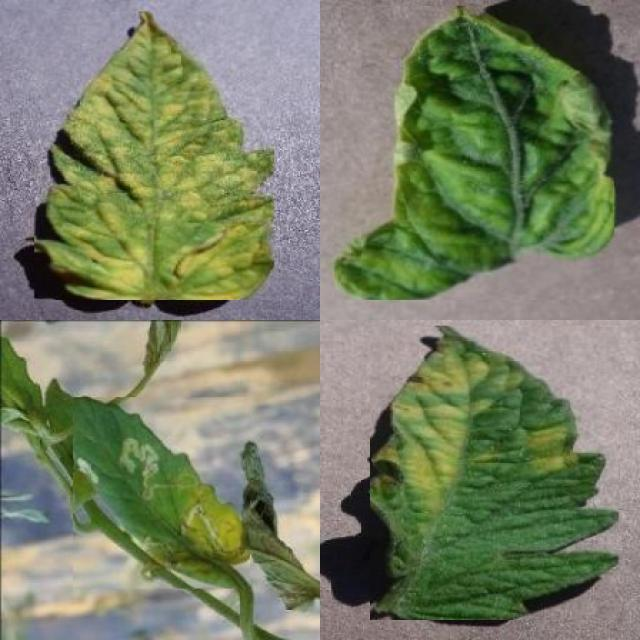Leaf Miner: (73, 397, 250, 589)
Leaf Mold: (370, 326, 619, 620), (35, 12, 274, 301)
Yellow Leaf Curl Virus: (335, 6, 615, 301)
